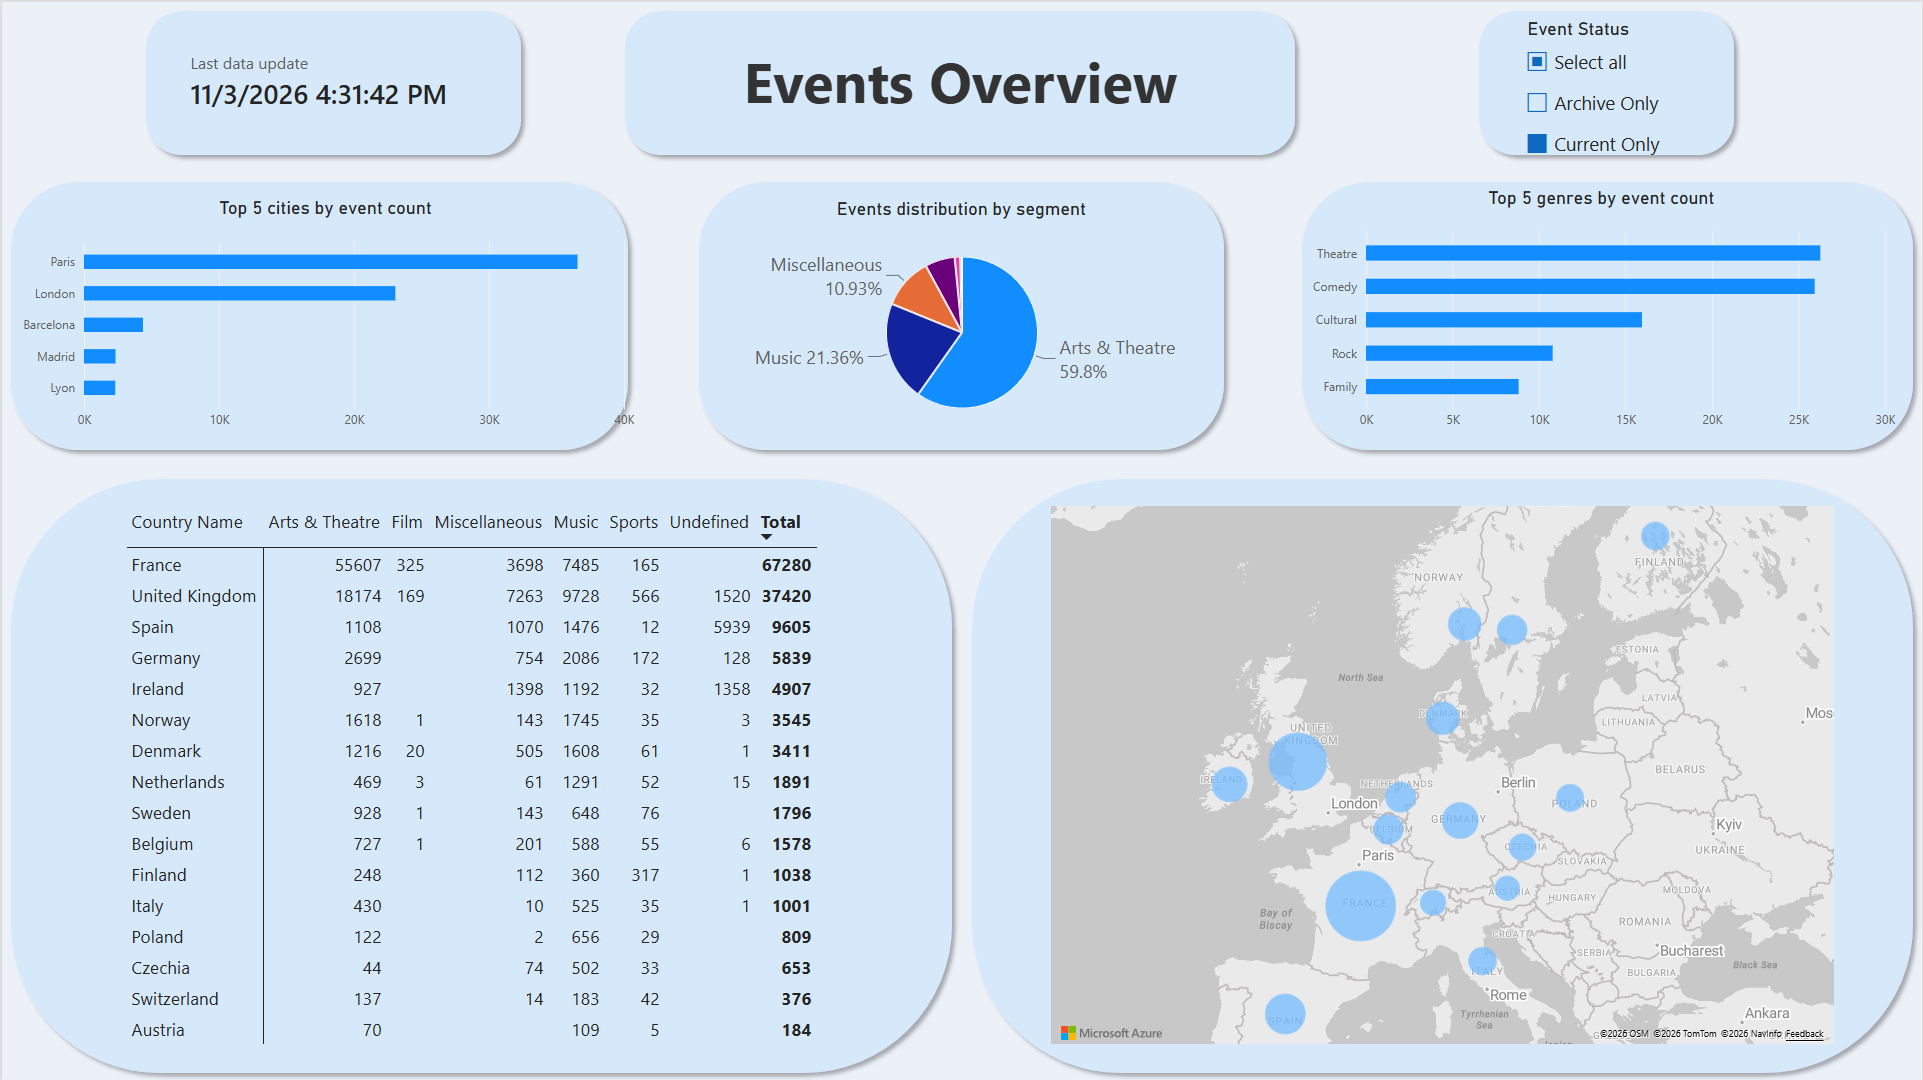

What the dashboard file says about the page in this screenshot:
{"tool":"powerbi","page":{"name":"Events Overview","canvas":[1920,1080],"ordinal":0},"visuals":[{"type":"group","id":"g1","title":"back","box":[0,0,1920,1080],"z":0},{"type":"barChart","title":"Top 5 genres by event count","fields":{"Category":["dim_segment_genre_subgenre.classification_genre"],"Y":["_measures.event_count"]},"box":[1291.1,171.2,617.8,275.6],"z":0,"group":"g2"},{"type":"shape","box":[0,467.8,958.9,612.2],"z":0,"group":"g1"},{"type":"shape","box":[1291,171,629,286],"z":1000,"group":"g1"},{"type":"group","id":"g2","title":"cards","box":[0,171.2,1908.9,275.8],"z":1000},{"type":"barChart","title":"Top 5 cities by event count","fields":{"Category":["dim_venue_location.venue_city"],"Y":["_measures.event_count"]},"box":[0,181,648,266],"z":1000,"group":"g2"},{"type":"cardVisual","fields":{"Data":["_measures.last_update"]},"box":[173.4,41,318,79],"z":2000},{"type":"pieChart","title":"Events distribution by segment","fields":{"Category":["dim_segment_genre_subgenre.classification_segment"],"Y":["_measures.event_count"]},"box":[706,182,507.6,262.7],"z":2000,"group":"g2"},{"type":"shape","box":[961.1,467.8,958.9,612.2],"z":2000,"group":"g1"},{"type":"shape","box":[688,171,542.8,286.4],"z":3000,"group":"g1"},{"type":"pivotTable","fields":{"Columns":["dim_segment_genre_subgenre.classification_segment"],"Rows":["dim_venue_location.venue_country_name"],"Values":["_measures.event_count"]},"box":[109.3,489.3,764,591],"z":3000},{"type":"shape","box":[1467.7,0,273.7,161.9],"z":4000,"group":"g1"},{"type":"azureMap","fields":{"Category":["dim_venue_location.venue_country_name"],"Size":["_measures.event_count"]},"box":[1033.3,490,814.4,567.8],"z":4000},{"type":"slicer","fields":{"Values":["fact_events_archive.edited_is_current"]},"box":[1517.5,15.7,174.6,146.2],"z":5000},{"type":"shape","box":[0,171,635,286],"z":5000,"group":"g1"},{"type":"shape","box":[135.4,0,393,162],"z":6000,"group":"g1"},{"type":"textbox","box":[641.1,41.1,635.6,75.6],"z":6000},{"type":"shape","box":[614.4,0,687.8,162.2],"z":7000,"group":"g1"}]}

Visuals, with their boxes in screenshot pixels (x1, y1, x2, y2), scaled from the page's 1920x1080 canvas onto the 1923x1080 screenshot:
"back" group: box=[0, 0, 1922, 1079]
"Top 5 genres by event count" barChart: box=[1293, 171, 1912, 447]
shape: box=[0, 468, 960, 1079]
shape: box=[1293, 171, 1922, 457]
"cards" group: box=[0, 171, 1912, 447]
"Top 5 cities by event count" barChart: box=[0, 181, 649, 447]
cardVisual - _measures.last_update: box=[174, 41, 492, 120]
"Events distribution by segment" pieChart: box=[707, 182, 1215, 445]
shape: box=[963, 468, 1922, 1079]
shape: box=[689, 171, 1233, 457]
pivotTable - dim_segment_genre_subgenre.classification_segment x dim_venue_location.venue_country_name: box=[109, 489, 875, 1079]
shape: box=[1470, 0, 1744, 162]
azureMap - dim_venue_location.venue_country_name x _measures.event_count: box=[1035, 490, 1851, 1058]
slicer - fact_events_archive.edited_is_current: box=[1520, 16, 1695, 162]
shape: box=[0, 171, 636, 457]
shape: box=[136, 0, 529, 162]
textbox: box=[642, 41, 1279, 117]
shape: box=[615, 0, 1304, 162]
